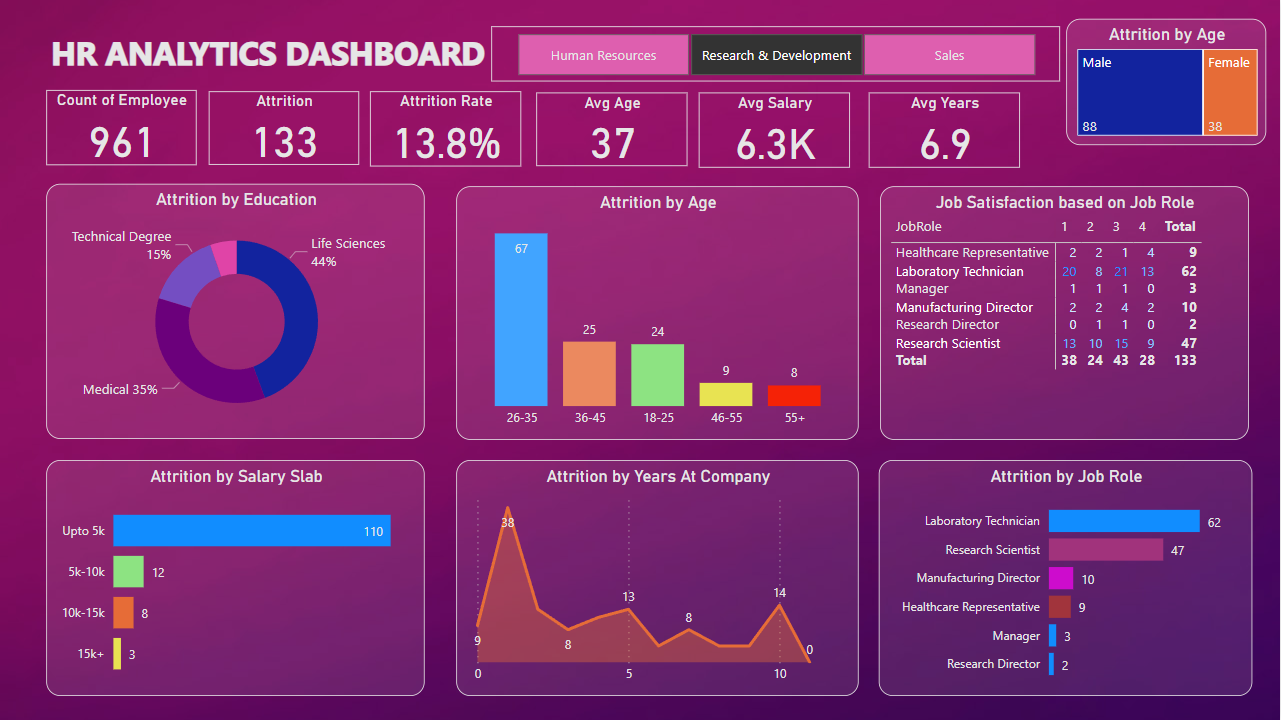

This screenshot's page, from the dashboard's own definition file:
{"tool":"powerbi","page":{"name":"Page 1","canvas":[1280,720],"ordinal":0},"visuals":[{"type":"card","title":"Count of Employee","fields":{"Values":["CountNonNull(HR_Analytics.EmpID)"]},"box":[46.2,90,150,75],"z":0},{"type":"card","title":"Attrition Rate","fields":{"Values":["HR_Analytics.AttritionRate"]},"box":[370,91.2,151.2,75],"z":1000},{"type":"card","title":"Avg Age","fields":{"Values":["Avg(HR_Analytics.Age)"]},"box":[536.2,92.5,151.2,73.8],"z":2000},{"type":"card","title":"Attrition ","fields":{"Values":["Sum(HR_Analytics.AttritionCount)"]},"box":[208.8,91.2,150,73.8],"z":3000},{"type":"card","title":"Avg Salary","fields":{"Values":["Avg(HR_Analytics.MonthlyIncome)"]},"box":[698.8,92.5,151.2,75],"z":4000},{"type":"card","title":"Avg Years","fields":{"Values":["Avg(HR_Analytics.YearsAtCompany)"]},"box":[868.8,92.5,151.2,75],"z":5000},{"type":"donutChart","title":"Attrition by Education","fields":{"Category":["HR_Analytics.EducationField"],"Y":["Sum(HR_Analytics.AttritionCount)"]},"box":[46.2,183.8,378.8,255],"z":6000},{"type":"columnChart","title":"Attrition by Age","fields":{"Category":["HR_Analytics.AgeGroup"],"Y":["Sum(HR_Analytics.AttritionCount)"]},"box":[456.2,186.2,402.5,253.8],"z":7000},{"type":"pivotTable","title":"Job Satisfaction based on Job Role","fields":{"Rows":["HR_Analytics.JobRole"],"Columns":["HR_Analytics.JobSatisfaction"],"Values":["Sum(HR_Analytics.AttritionCount)"]},"box":[880,186.2,368.8,253.8],"z":8000},{"type":"barChart","title":"Attrition by Salary Slab","fields":{"Category":["HR_Analytics.SalarySlab"],"Y":["Sum(HR_Analytics.AttritionCount)"]},"box":[46.2,460,378.8,236.2],"z":9000},{"type":"barChart","title":"Attrition by Job Role","fields":{"Category":["HR_Analytics.JobRole"],"Y":["Sum(HR_Analytics.AttritionCount)"]},"box":[878.8,460,373.8,236.2],"z":10000},{"type":"areaChart","title":"Attrition by Years At Company","fields":{"Category":["HR_Analytics.YearsAtCompany"],"Y":["Sum(HR_Analytics.AttritionCount)"]},"box":[456.2,460,402.5,236.2],"z":11000},{"type":"treemap","title":"Attrition by Age","fields":{"Group":["HR_Analytics.Gender"],"Values":["Sum(HR_Analytics.AttritionCount)"]},"box":[1066.2,18.8,200,126.2],"z":12000},{"type":"slicer","fields":{"Values":["HR_Analytics.Department"]},"box":[491.2,26.2,568.8,55],"z":13000},{"type":"textbox","box":[46.2,26.2,463.8,55],"z":13001}]}

Visuals, with their boxes in screenshot pixels (x1, y1, x2, y2), scaled from the page's 1280x720 canvas onto the 1281x720 screenshot:
"Count of Employee" card: rect(46, 90, 196, 165)
"Attrition Rate" card: rect(370, 91, 522, 166)
"Avg Age" card: rect(537, 92, 688, 166)
"Attrition " card: rect(209, 91, 359, 165)
"Avg Salary" card: rect(699, 92, 851, 168)
"Avg Years" card: rect(869, 92, 1021, 168)
"Attrition by Education" donutChart: rect(46, 184, 425, 439)
"Attrition by Age" columnChart: rect(457, 186, 859, 440)
"Job Satisfaction based on Job Role" pivotTable: rect(881, 186, 1250, 440)
"Attrition by Salary Slab" barChart: rect(46, 460, 425, 696)
"Attrition by Job Role" barChart: rect(879, 460, 1254, 696)
"Attrition by Years At Company" areaChart: rect(457, 460, 859, 696)
"Attrition by Age" treemap: rect(1067, 19, 1267, 145)
slicer - HR_Analytics.Department: rect(492, 26, 1061, 81)
textbox: rect(46, 26, 510, 81)
